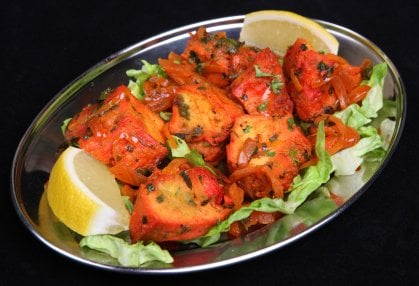sushi: (18, 5, 408, 274)
